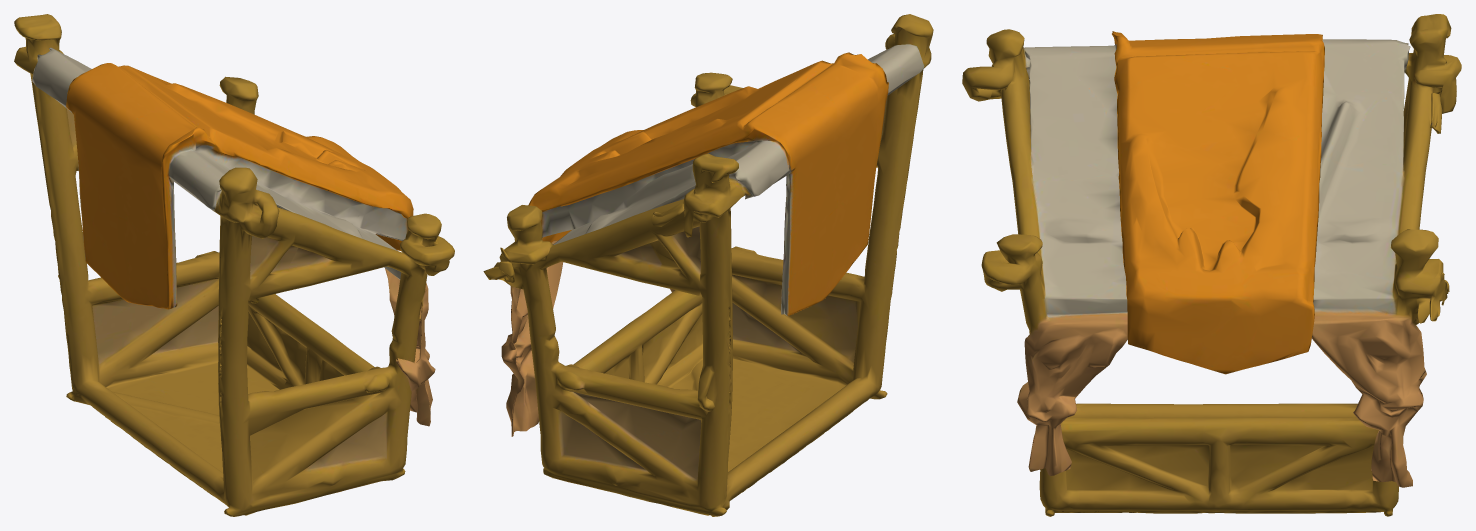
Rendered from shop.fbx.
3 renders of one model, left to right at view 1: azimuth 30°, elevation 25°; view 2: azimuth 150°, elevation 25°; view 3: azimuth 270°, elevation 25°, orthographic. The views are drawn at different scales.
Visible parts, largest first — view 1: tripo_node_e138a709-90b7-40c2-90de-2e9f5f0196da; view 2: tripo_node_e138a709-90b7-40c2-90de-2e9f5f0196da; view 3: tripo_node_e138a709-90b7-40c2-90de-2e9f5f0196da.
Boxes of the visible parts, x1,y1,x2,y2 form: tripo_node_e138a709-90b7-40c2-90de-2e9f5f0196da: (14, 14, 454, 516); tripo_node_e138a709-90b7-40c2-90de-2e9f5f0196da: (483, 14, 933, 516); tripo_node_e138a709-90b7-40c2-90de-2e9f5f0196da: (962, 14, 1461, 516).
Bounding box in the file's own units: 64.66 × 86.76 × 98.17.
Materials: 1 (1 with a texture image).
